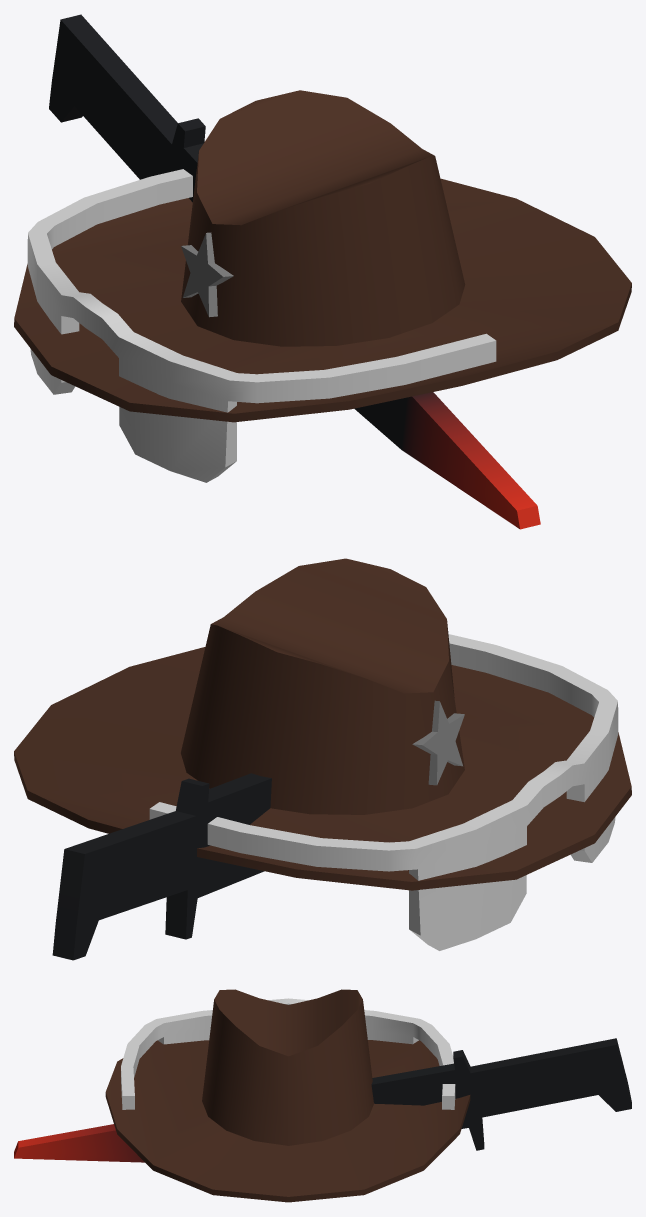
Rendered from Wearables.fbx.
The picture shows the model from 3 angles, top to bottom: view 1: azimuth 30°, elevation 25°; view 2: azimuth 150°, elevation 25°; view 3: azimuth 270°, elevation 25°; orthographic projection. The views are drawn at different scales.
Visible parts, largest first — view 1: Hat, Glasses, Knife; view 2: Hat, Glasses, Knife; view 3: Hat, Knife, Glasses.
Boxes of the visible parts, x1,y1,x2,y2 form: Hat: (14, 90, 631, 422); Glasses: (27, 169, 496, 482); Knife: (49, 14, 540, 529); Hat: (14, 558, 631, 890); Glasses: (149, 634, 618, 950); Knife: (52, 773, 271, 960); Hat: (105, 989, 470, 1202); Knife: (14, 1038, 631, 1162); Glasses: (121, 998, 455, 1109).
Bounding box in the file's own units: 132 × 56.52 × 197.
